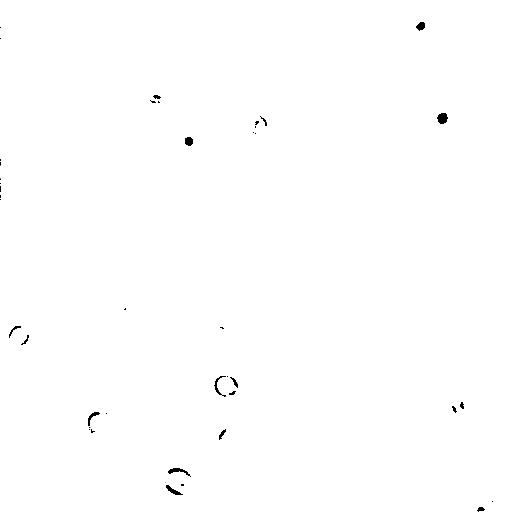micro-algae: (40, 53, 96, 105), (422, 94, 465, 141), (166, 120, 207, 158), (397, 6, 433, 44), (447, 382, 482, 420), (205, 182, 238, 217), (115, 286, 147, 320), (86, 409, 119, 437), (164, 393, 196, 421), (161, 466, 194, 493), (231, 0, 274, 18), (212, 372, 239, 397), (217, 425, 241, 452), (462, 495, 499, 512), (243, 109, 267, 135), (7, 324, 28, 347)
